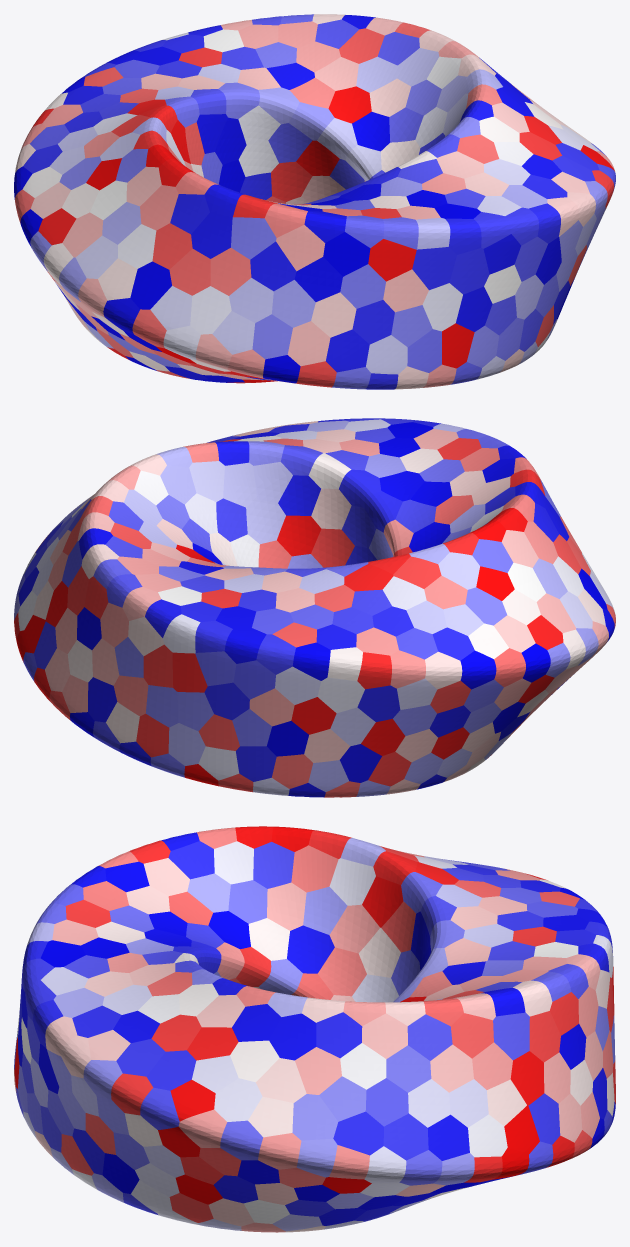
The model's file is Ours_600_mobius1_Iter31_RVD.obj.
3 views of the same model, one above another, from view 1: azimuth 30°, elevation 25°; view 2: azimuth 150°, elevation 25°; view 3: azimuth 270°, elevation 25° (orthographic). The views are drawn at different scales.
Visible parts, largest first — view 1: 3D_Object; view 2: 3D_Object; view 3: 3D_Object.
Part boxes in pixels (x1=…): 3D_Object: x1=14, y1=14, x2=615, y2=389; 3D_Object: x1=14, y1=418, x2=615, y2=797; 3D_Object: x1=14, y1=826, x2=615, y2=1232.
Size of the model in its own units: 6.8 by 2.63 by 6.26.
1 material, 1 textured.
